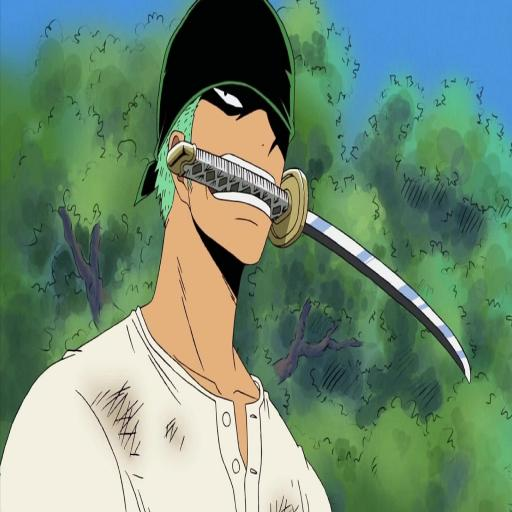Zoro: (13, 0, 334, 512)
